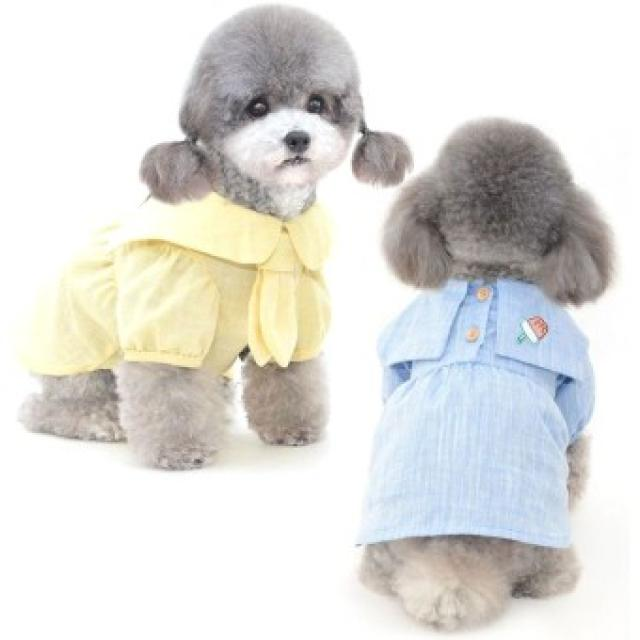cloth: (359, 279, 594, 547), (30, 192, 330, 375)
